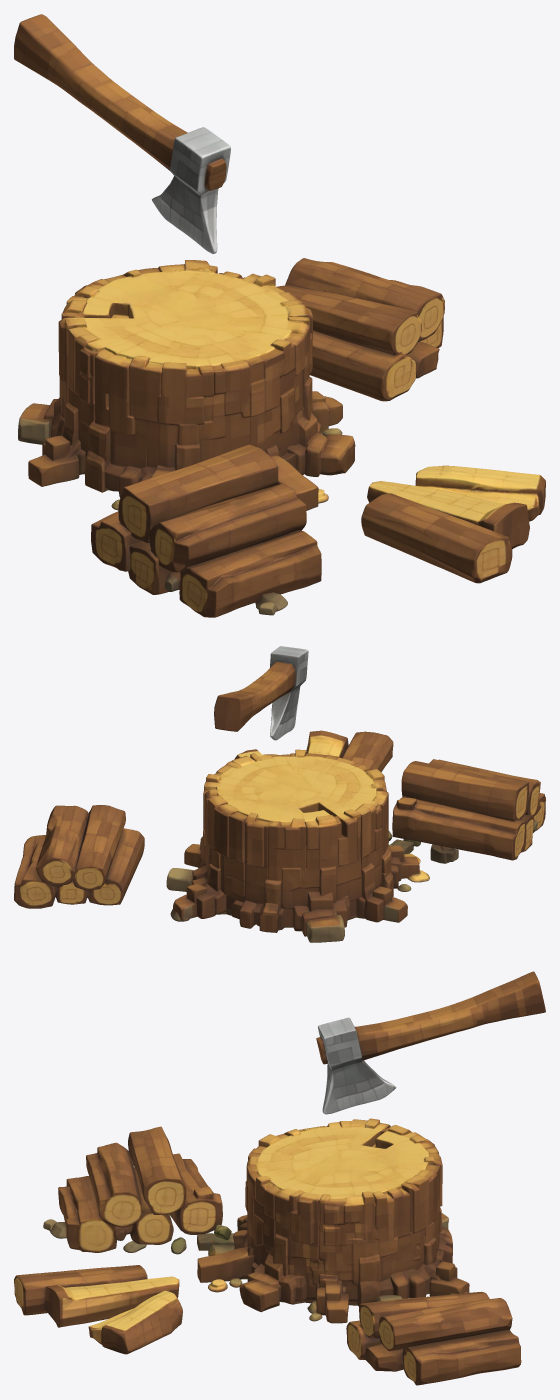
The model's file is firewood.glb.
3 views of the same model, one above another, from view 1: azimuth 30°, elevation 25°; view 2: azimuth 150°, elevation 25°; view 3: azimuth 270°, elevation 25° (orthographic). The views are drawn at different scales.
Visible parts, largest first — view 1: tripo_node_0f59e880-02e0-45d4-a91e-6eccbbe80ac2; view 2: tripo_node_0f59e880-02e0-45d4-a91e-6eccbbe80ac2; view 3: tripo_node_0f59e880-02e0-45d4-a91e-6eccbbe80ac2.
Part boxes in pixels (x1,y1,x2,y2): tripo_node_0f59e880-02e0-45d4-a91e-6eccbbe80ac2: [14, 14, 545, 617]; tripo_node_0f59e880-02e0-45d4-a91e-6eccbbe80ac2: [14, 646, 545, 942]; tripo_node_0f59e880-02e0-45d4-a91e-6eccbbe80ac2: [14, 971, 545, 1385].
Size of the model in its own units: 0.854 by 0.5859 by 1.
Materials: 1 (1 with a texture image).
